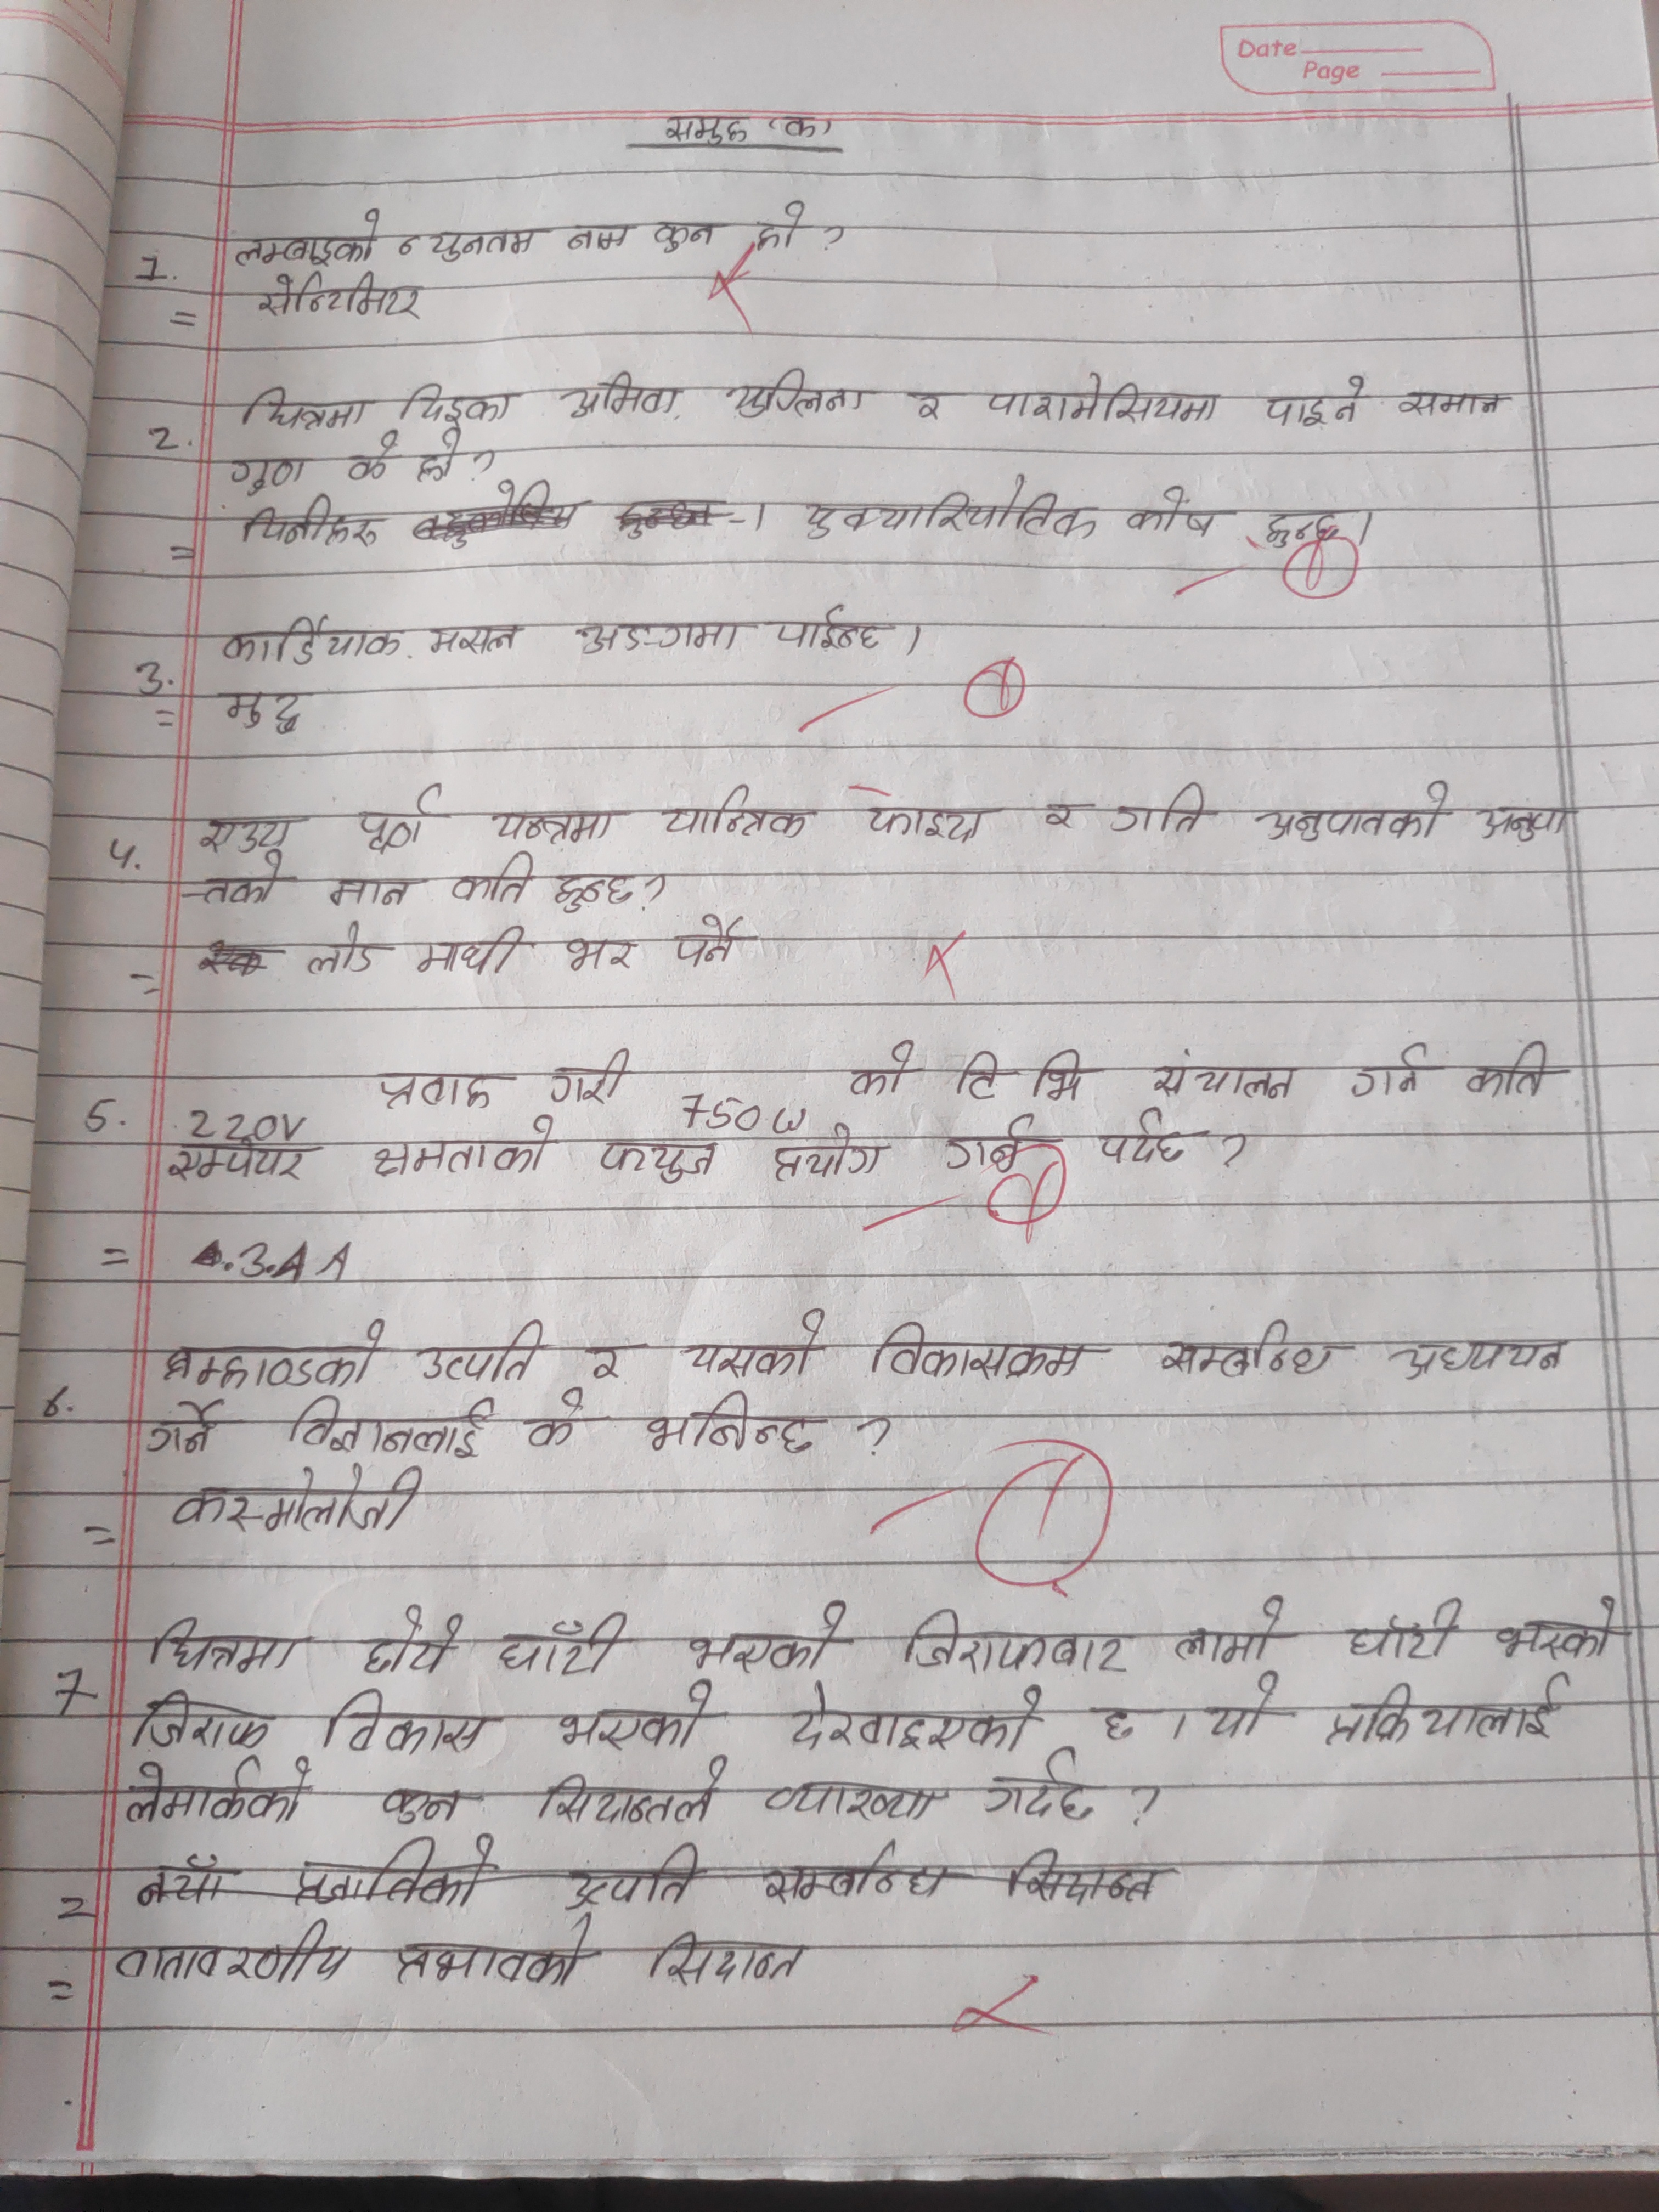text: (800, 475, 1101, 545), (782, 1683, 1056, 1759), (1324, 1672, 1575, 1749), (162, 1465, 422, 1536), (897, 1604, 1138, 1677), (162, 1313, 383, 1390), (274, 1388, 498, 1463), (868, 1320, 1098, 1393), (99, 1926, 356, 1991), (390, 1911, 591, 1987), (981, 368, 1225, 428), (676, 1601, 854, 1683), (322, 1683, 504, 1763), (1260, 775, 1459, 846), (119, 1759, 315, 1831), (641, 1388, 823, 1465), (537, 1761, 725, 1832), (551, 1676, 716, 1756), (638, 1921, 812, 1993), (1161, 1313, 1337, 1383), (681, 1301, 826, 1385), (211, 611, 415, 671), (228, 204, 390, 272), (1148, 1043, 1310, 1111), (368, 1123, 558, 1181), (143, 1611, 312, 1676), (497, 1604, 640, 1679), (127, 1686, 277, 1756), (648, 784, 819, 845), (1384, 1327, 1574, 1381), (247, 270, 430, 326), (410, 1318, 561, 1385), (1492, 1597, 1635, 1665), (765, 1778, 950, 1831), (713, 368, 875, 427), (950, 1049, 1098, 1113), (1161, 1592, 1288, 1665), (971, 1761, 1100, 1832), (1340, 1601, 1467, 1669), (164, 1139, 329, 1190), (234, 500, 389, 552), (479, 798, 624, 853), (854, 791, 993, 848), (563, 615, 746, 658), (235, 385, 373, 441), (762, 592, 884, 655), (565, 364, 683, 428), (765, 1125, 894, 1184), (350, 786, 448, 859), (1262, 371, 1377, 432), (364, 1609, 469, 1676), (416, 927, 528, 988), (1460, 1042, 1568, 1104), (1121, 482, 1230, 543), (373, 1068, 500, 1120), (193, 852, 291, 918), (392, 223, 545, 265), (399, 380, 530, 428), (1202, 1674, 1284, 1749), (943, 1113, 1040, 1176), (592, 1134, 721, 1181), (1087, 1115, 1197, 1169), (1114, 779, 1209, 840), (549, 1043, 634, 1111), (443, 846, 540, 906), (145, 1393, 234, 1458), (514, 1395, 606, 1456), (1345, 1038, 1436, 1099), (847, 1031, 927, 1099), (657, 105, 755, 158), (1478, 794, 1575, 848), (662, 914, 762, 967), (186, 813, 308, 853), (216, 686, 308, 738), (1389, 381, 1507, 421), (305, 921, 380, 984), (221, 451, 317, 500), (322, 860, 420, 907), (549, 866, 634, 916), (418, 615, 525, 655), (1260, 505, 1344, 556), (404, 421, 467, 488), (369, 1787, 469, 1829), (749, 197, 817, 256), (558, 930, 638, 979), (561, 216, 645, 260), (645, 207, 720, 254), (580, 1331, 640, 1390), (338, 432, 396, 484), (896, 380, 951, 428), (1091, 1707, 1155, 1745), (1037, 791, 1089, 834)
